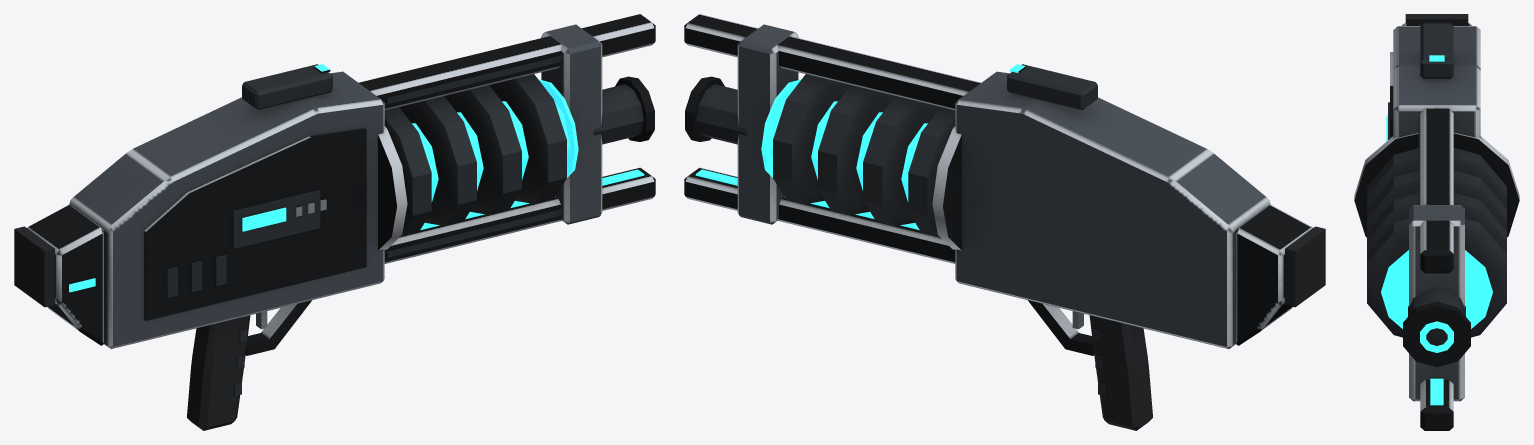
Rendered from opr_wpn_kinetic_accelerator_a.glb.
The picture shows the model from 3 angles, left to right: view 1: azimuth 30°, elevation 25°; view 2: azimuth 150°, elevation 25°; view 3: azimuth 270°, elevation 25°; orthographic projection. The views are drawn at different scales.
Parts seen in each view (by area): view 1: mesh_intact; view 2: mesh_intact; view 3: mesh_intact.
Part boxes in pixels (<box>): mesh_intact: <box>14,14,655,430</box>; mesh_intact: <box>684,14,1325,430</box>; mesh_intact: <box>1354,14,1519,430</box>.
Size of the model in its own units: 0.6587 by 0.333 by 0.148.
Materials: 1 (1 with a texture image).
